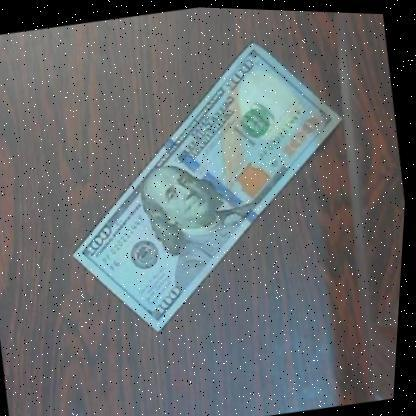one_hundred-front: (38, 14, 380, 352)
